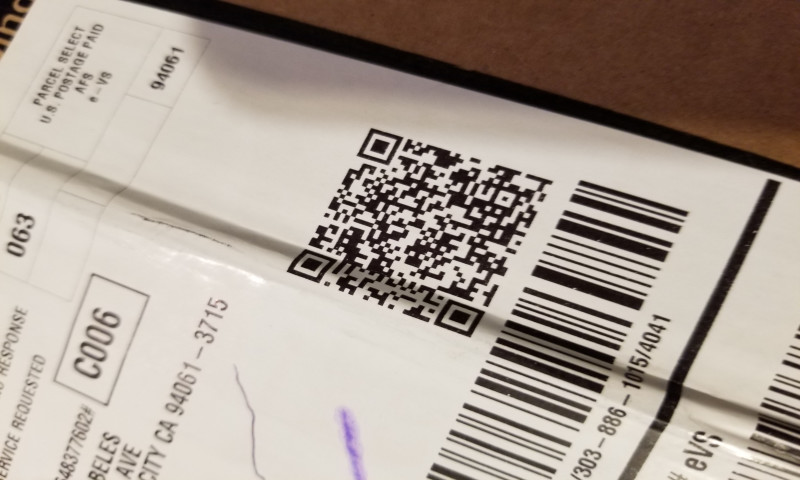QR_CODE: (275, 115, 562, 348)
